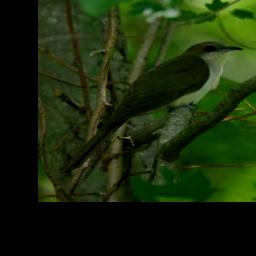Cuckoo: (57, 40, 244, 177)
